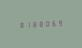eight: (31, 20, 37, 28), (17, 21, 23, 28), (38, 20, 44, 27)
nine: (59, 19, 65, 26)
one: (24, 20, 30, 28)
six: (52, 19, 58, 27)
zero: (45, 19, 51, 27)
